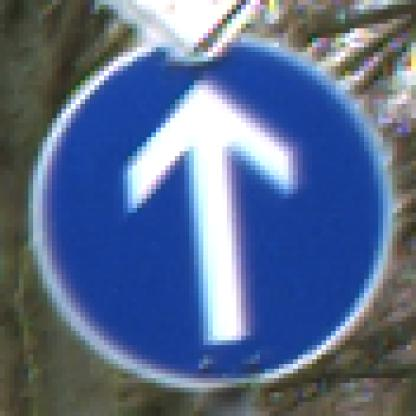AheadOnly: (34, 34, 384, 384)
